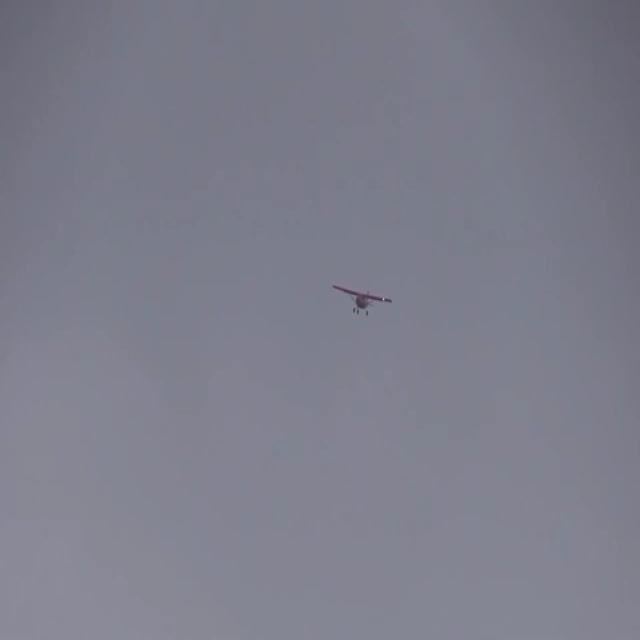AirPlane: (321, 270, 402, 333)
